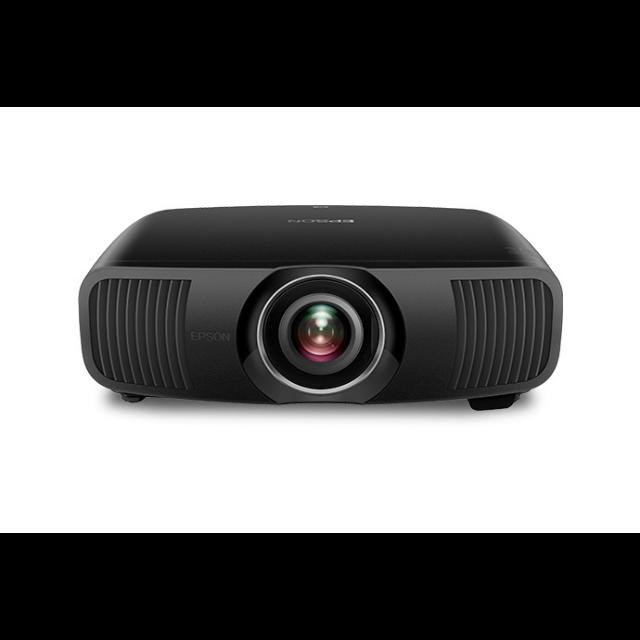Projector: (77, 206, 563, 412)
